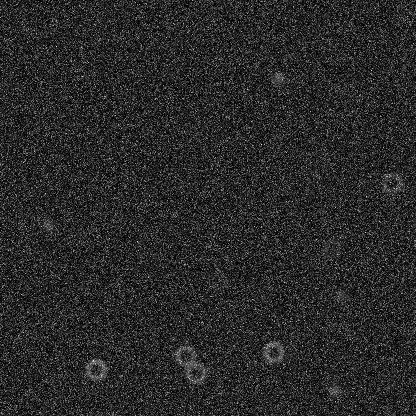Ring: (380, 171, 404, 195), (204, 268, 228, 292), (83, 357, 107, 381), (261, 339, 285, 363), (173, 343, 197, 367), (319, 236, 343, 260), (183, 360, 207, 384)
Spot: (333, 286, 349, 302), (269, 70, 285, 86), (40, 217, 56, 233), (326, 382, 342, 398)
